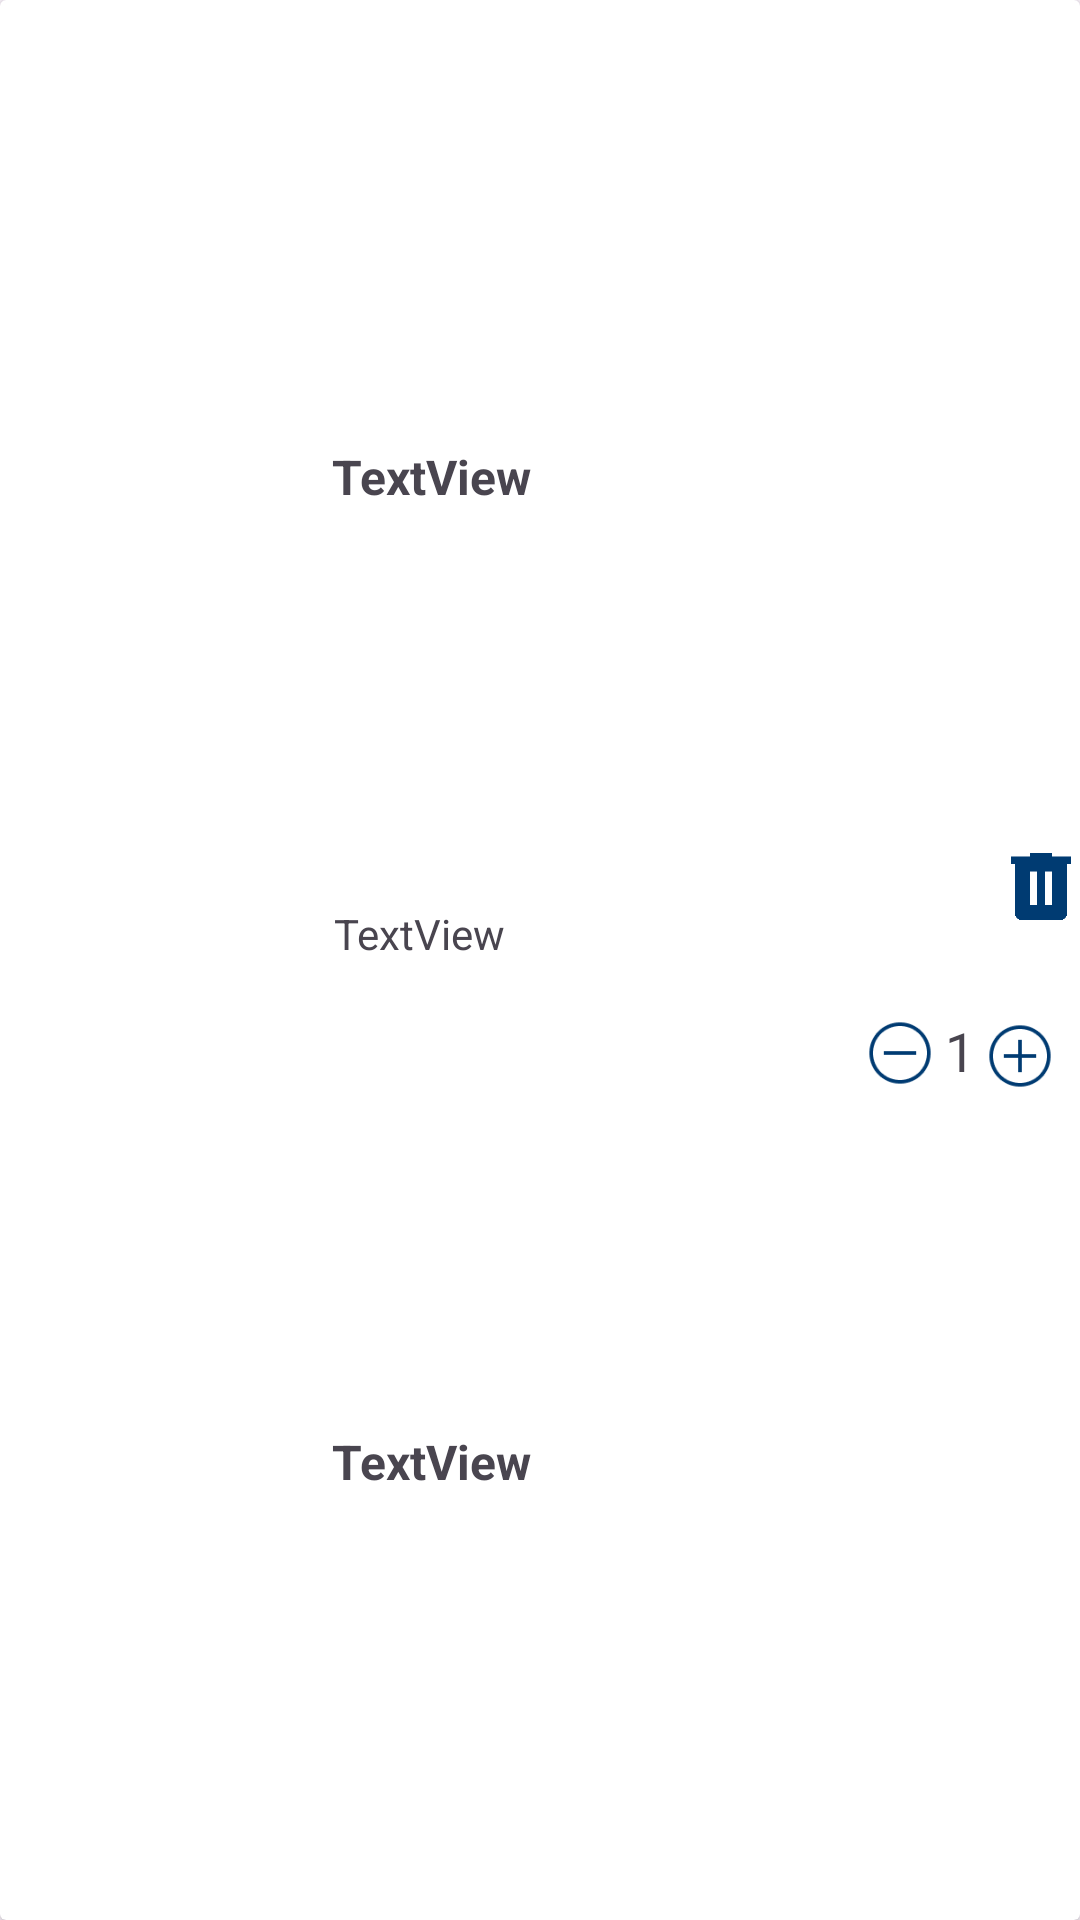

Where to tap for icons on this 1080px×1920px app screen, as (x,y):
delete: (1041,886)
minus: (900,1053)
plus: (1020,1056)
